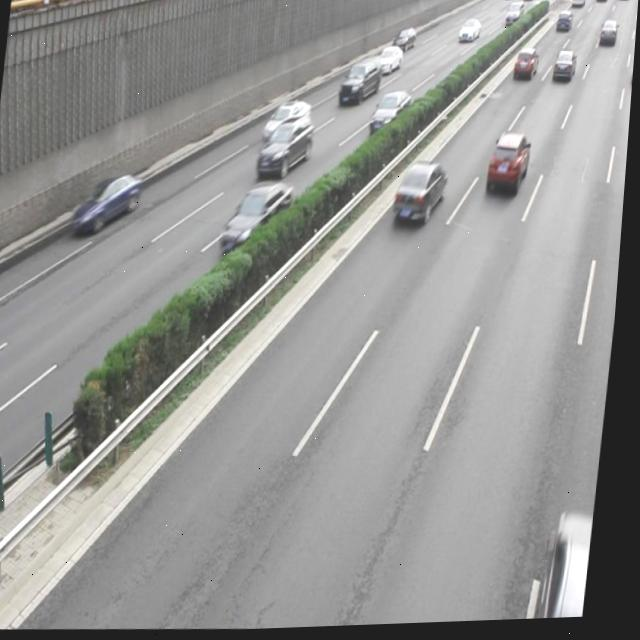car: (542, 515, 600, 623), (222, 179, 298, 257), (72, 170, 146, 235), (257, 114, 316, 178), (394, 160, 450, 227), (485, 134, 533, 201), (264, 98, 312, 145), (370, 91, 414, 138), (512, 49, 540, 85), (374, 46, 404, 78), (551, 52, 578, 84), (630, 52, 636, 90)
truck: (339, 58, 382, 107)
